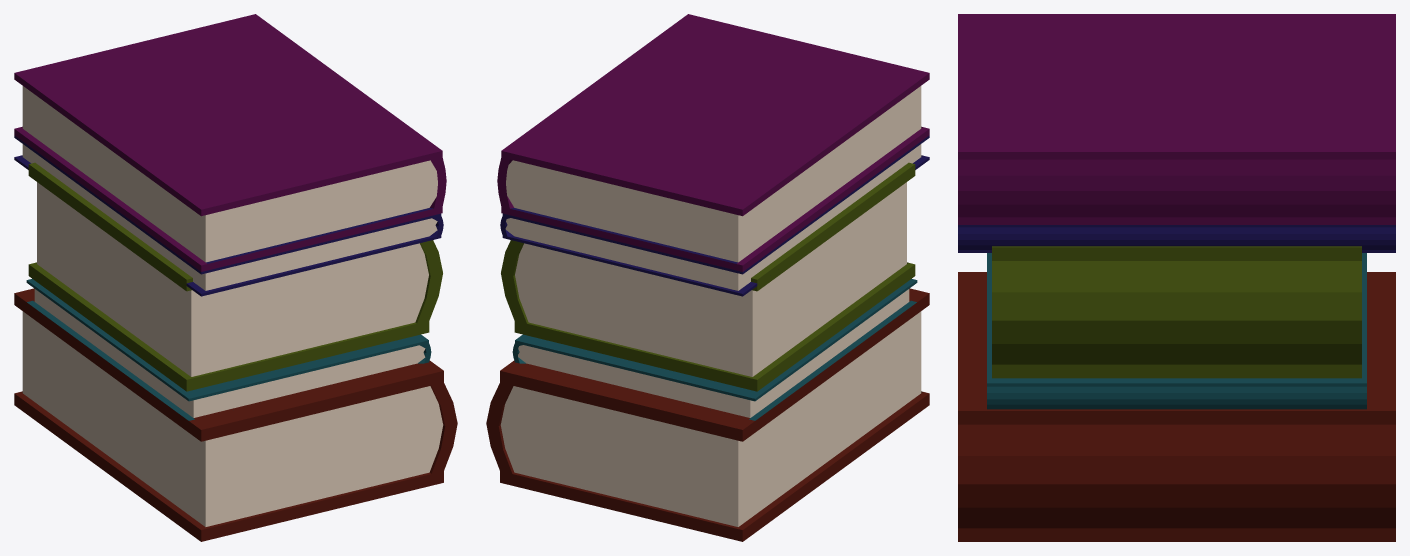
The model's file is livrostack.fbx.
The picture shows the model from 3 angles, left to right: view 1: azimuth 30°, elevation 25°; view 2: azimuth 150°, elevation 25°; view 3: azimuth 270°, elevation 25°; orthographic projection. The views are drawn at different scales.
Parts seen in each view (by area): view 1: Cube.003, Cube.002, Cube.006, Cube.005, Cube.004; view 2: Cube.003, Cube.002, Cube.006, Cube.005, Cube.004; view 3: Cube.003, Cube.002, Cube.006, Cube.005, Cube.004.
Part boxes in pixels (<box>): Cube.003: <box>14,14,446,271</box>; Cube.002: <box>14,288,457,541</box>; Cube.006: <box>28,162,442,391</box>; Cube.005: <box>26,279,431,420</box>; Cube.004: <box>14,135,443,296</box>; Cube.003: <box>497,14,929,271</box>; Cube.002: <box>486,288,929,541</box>; Cube.006: <box>501,162,915,391</box>; Cube.005: <box>512,279,917,420</box>; Cube.004: <box>500,135,929,296</box>; Cube.003: <box>958,14,1395,224</box>; Cube.002: <box>958,272,1395,541</box>; Cube.006: <box>992,246,1361,378</box>; Cube.005: <box>987,253,1366,409</box>; Cube.004: <box>958,225,1395,252</box>.
Size of the model in its own units: 32.63 by 40.39 by 41.18.
